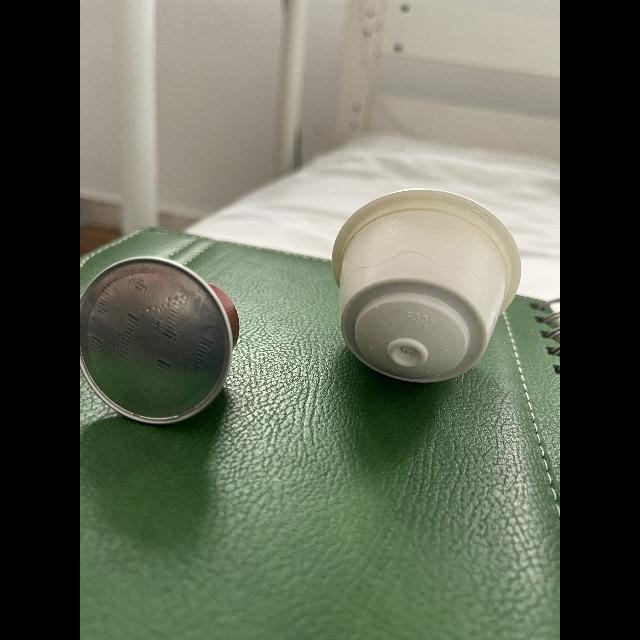intact_capsule: (318, 182, 542, 392), (80, 244, 254, 436)
